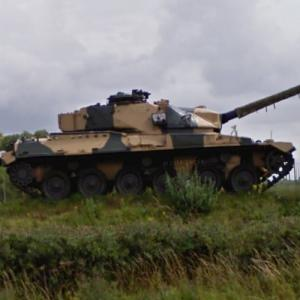Battle Tank: (1, 87, 300, 198)
